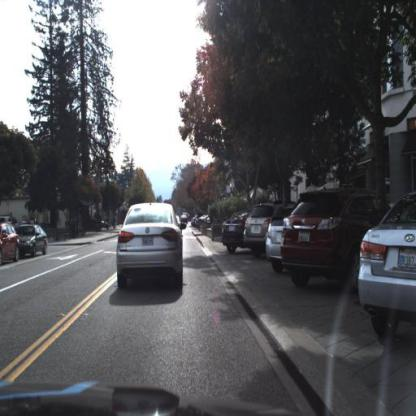car: (283, 185, 389, 292), (359, 183, 415, 344), (109, 199, 191, 291), (242, 196, 272, 260), (264, 199, 287, 274), (12, 222, 48, 260), (221, 204, 248, 251), (265, 211, 286, 268), (2, 221, 20, 267)
